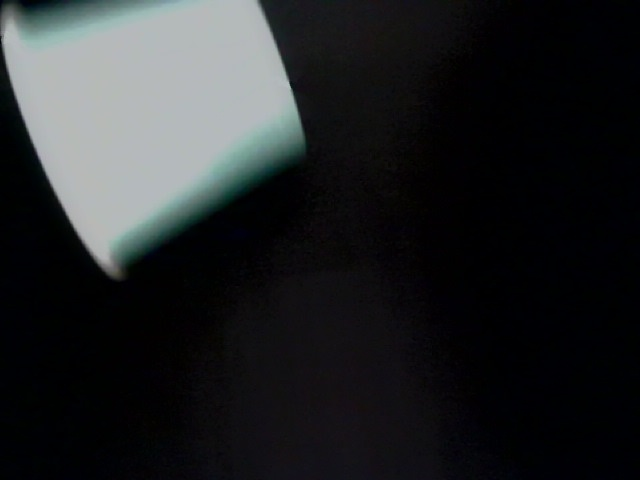KHSLJ: (39, 46, 442, 394)
